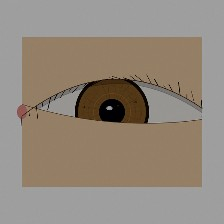hemorrhage_spot: (78, 101, 138, 149)
